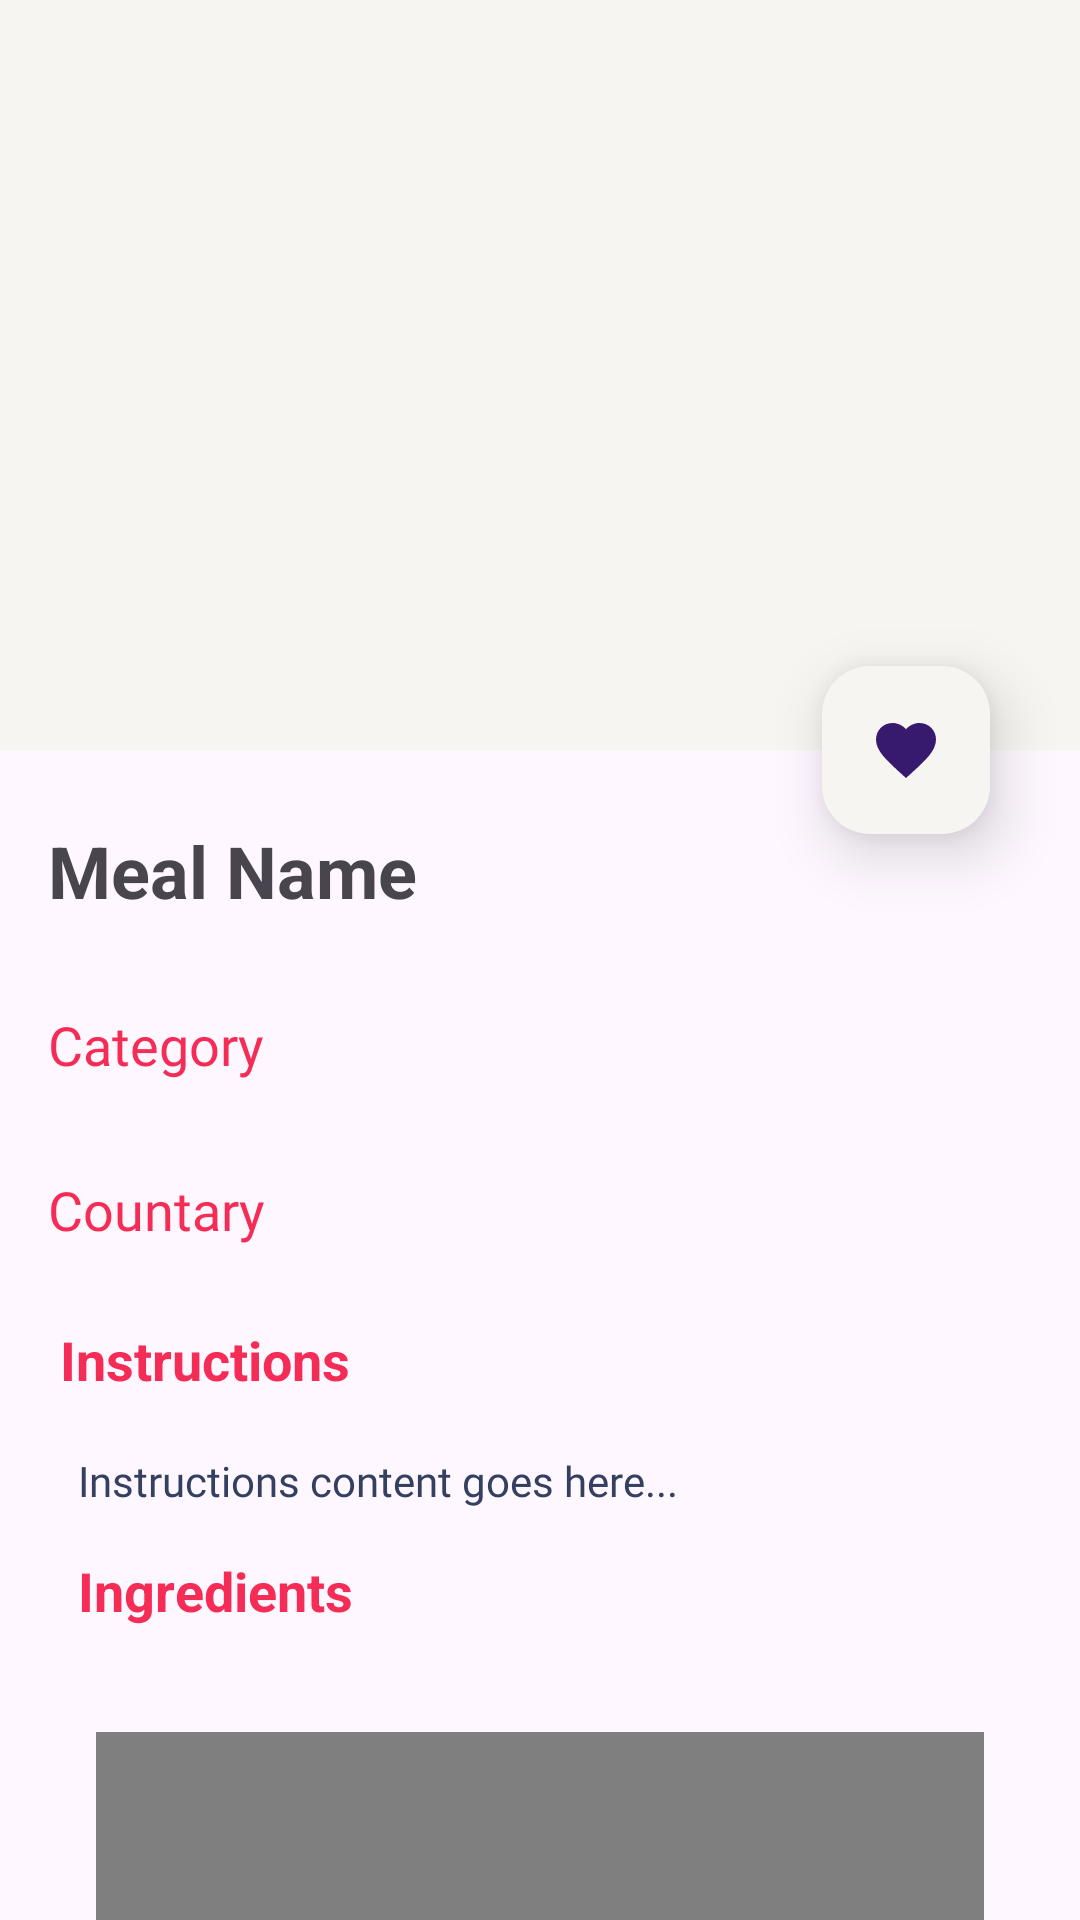

Point at icon controls on the screen. Image size 1080*1920, points as (x,y).
favourite: (906,750)
